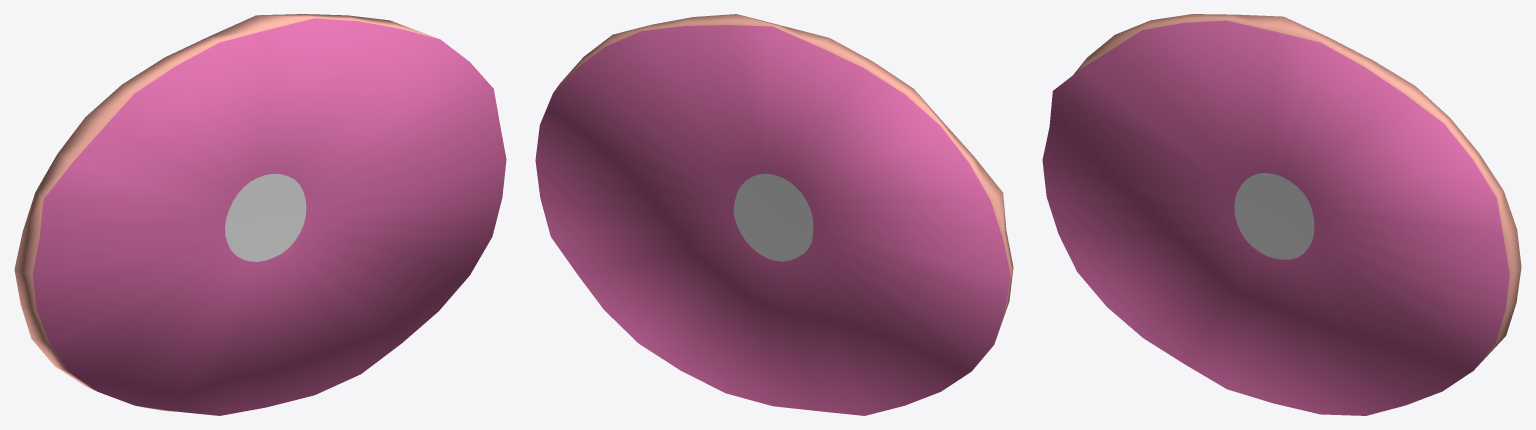
File: cutRawPork.fbx
3 views of the same model, side by side, from view 1: azimuth 30°, elevation 25°; view 2: azimuth 150°, elevation 25°; view 3: azimuth 330°, elevation 25° (orthographic).
Parts seen in each view (by area): view 1: Cylinder.005; view 2: Cylinder.005; view 3: Cylinder.005.
Part boxes in pixels (<box>): Cylinder.005: <box>14,14,506,415</box>; Cylinder.005: <box>535,14,1013,415</box>; Cylinder.005: <box>1042,14,1521,415</box>.
Bounding box in the file's own units: 94.04 × 71.76 × 3.63.
